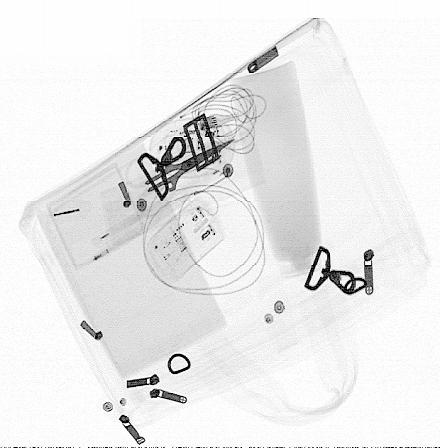Scissors: (124, 137, 237, 222)
